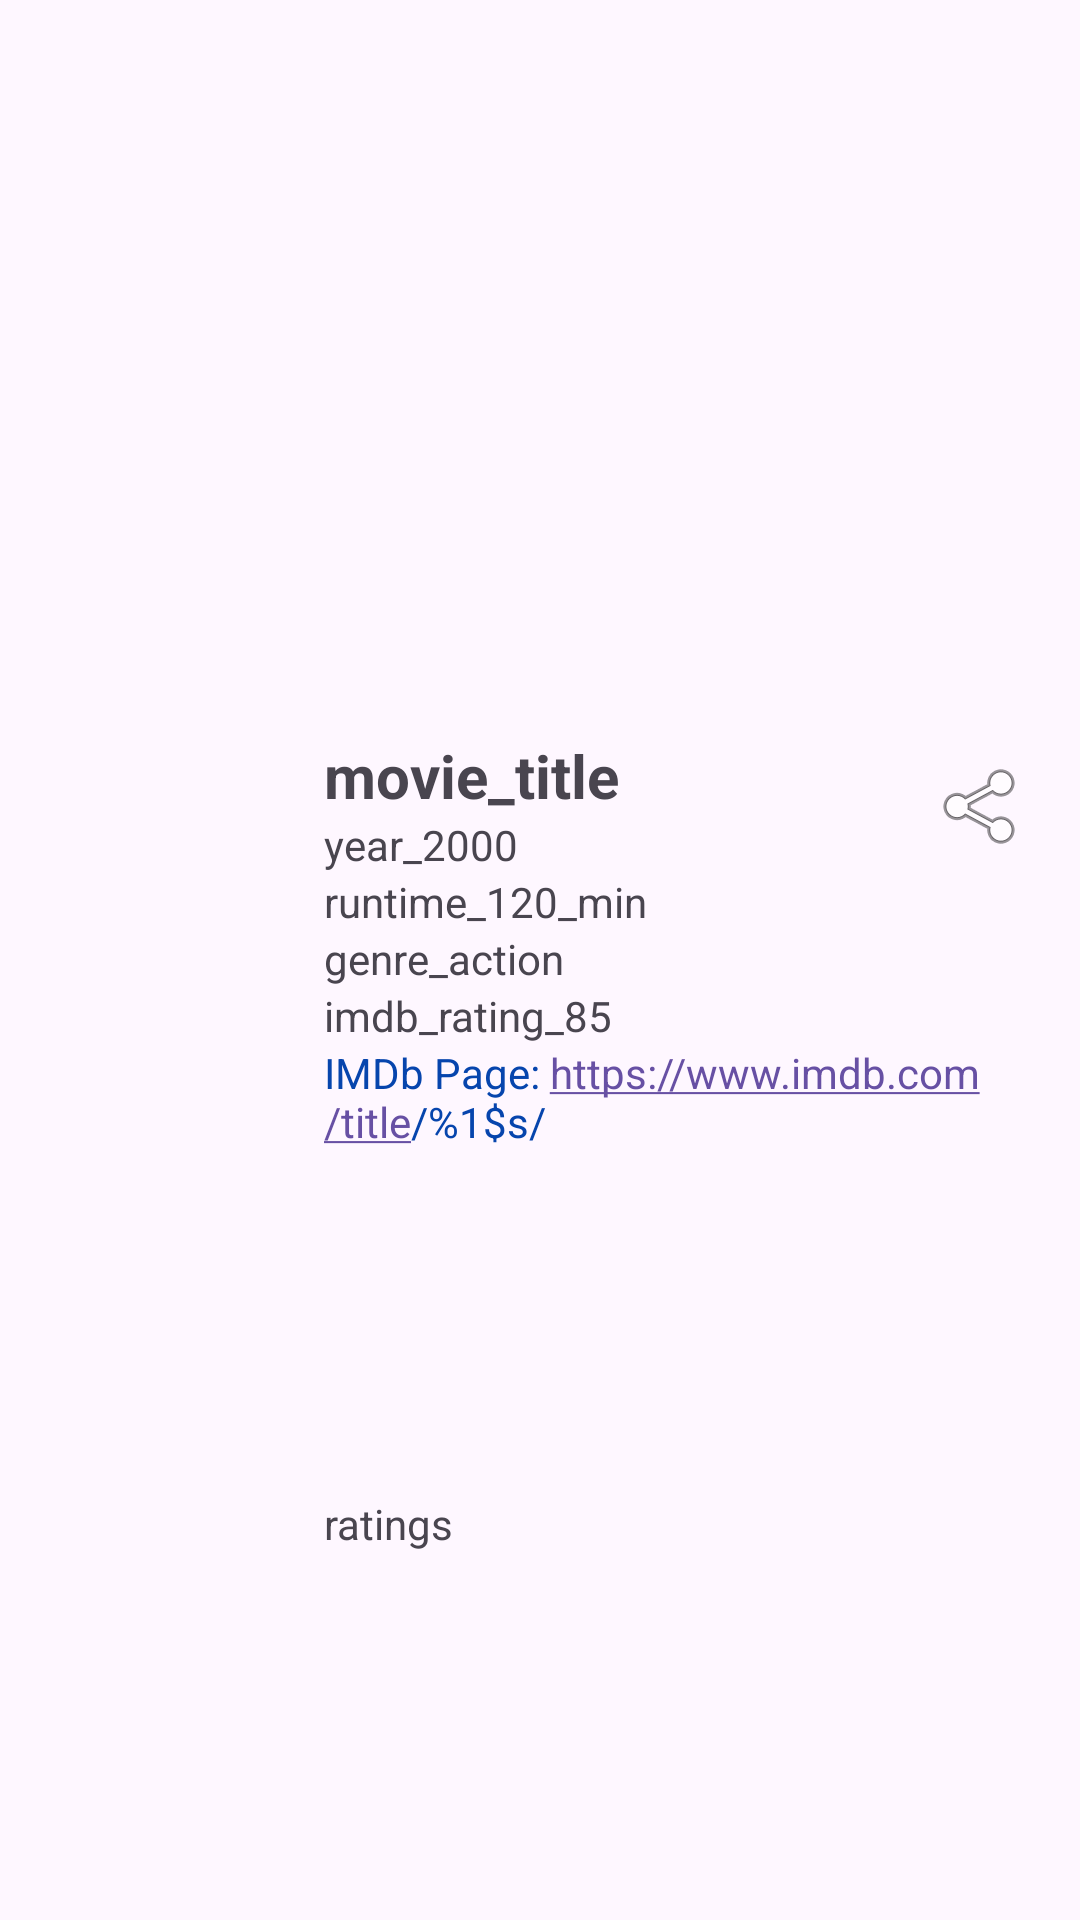

Point at icon controls on the screen. Image size 1080px×1920px, points as point (x, y).
share: point (979, 806)
